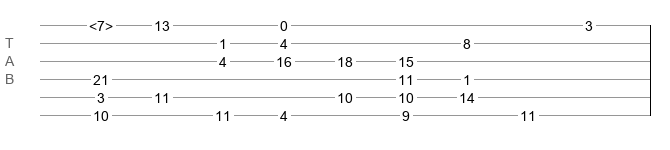0: (280, 18, 288, 28)
1: (219, 36, 227, 46), (463, 72, 471, 82)
10: (93, 108, 109, 118), (337, 90, 353, 100), (398, 90, 414, 100)
11: (154, 90, 170, 100), (215, 108, 231, 118), (398, 72, 414, 82), (520, 108, 536, 118)
13: (154, 18, 170, 28)
14: (459, 90, 475, 100)
15: (398, 54, 414, 64)
16: (276, 54, 292, 64)
18: (337, 54, 353, 64)
21: (93, 72, 109, 82)
3: (97, 90, 105, 100), (585, 18, 593, 28)
4: (219, 54, 227, 64), (280, 36, 288, 46), (280, 108, 288, 118)
8: (463, 36, 471, 46)
9: (402, 108, 410, 118)
harmonic: (89, 18, 113, 28)
